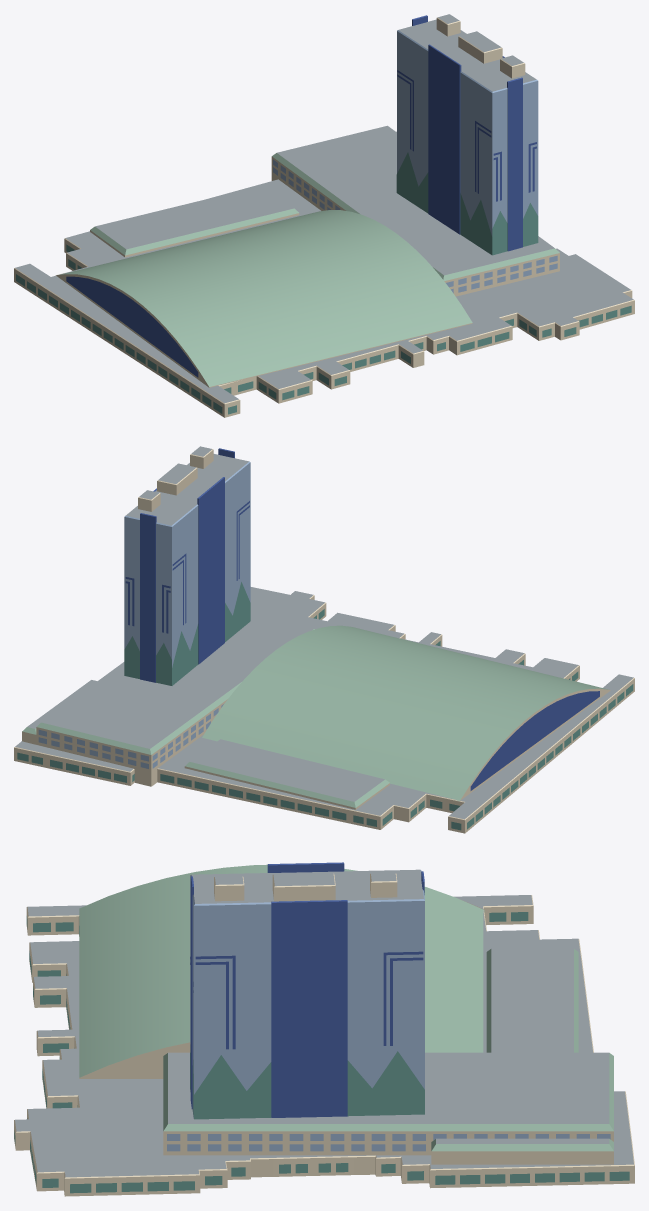
File: niagara-seneca-niagara-casino.glb
3 renders of one model, top to bottom at view 1: azimuth 30°, elevation 25°; view 2: azimuth 150°, elevation 25°; view 3: azimuth 270°, elevation 25°, orthographic. The views are drawn at different scales.
Visible parts, largest first — view 1: Seneca Niagara Resort & Casino; view 2: Seneca Niagara Resort & Casino; view 3: Seneca Niagara Resort & Casino.
Part boxes in pixels (x1,y1,x2,y2): Seneca Niagara Resort & Casino: (14, 14, 634, 417); Seneca Niagara Resort & Casino: (14, 446, 634, 833); Seneca Niagara Resort & Casino: (14, 862, 634, 1196).
Size of the model in its own units: 228 by 104 by 211.
